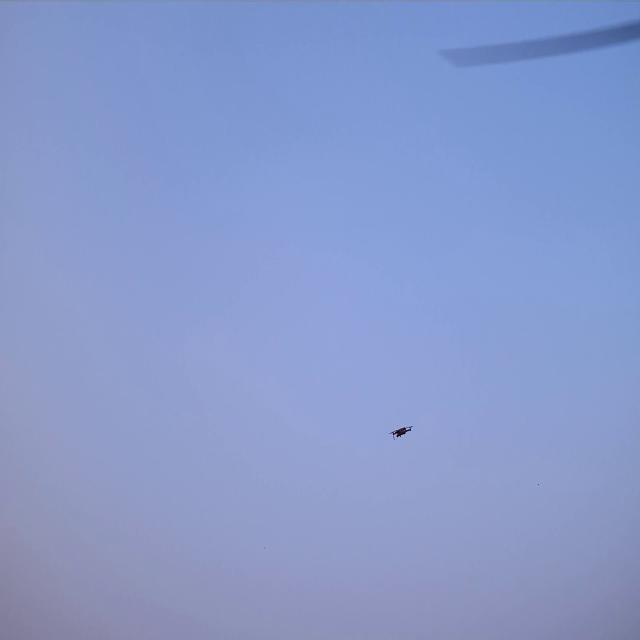UAV: (391, 426, 411, 437)
